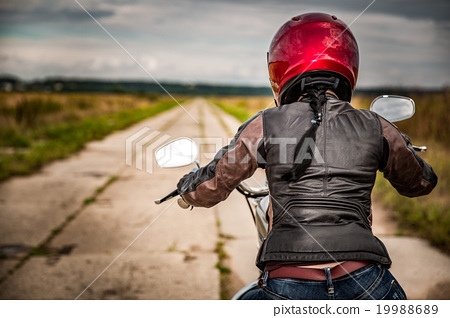helmet: (257, 12, 364, 102)
